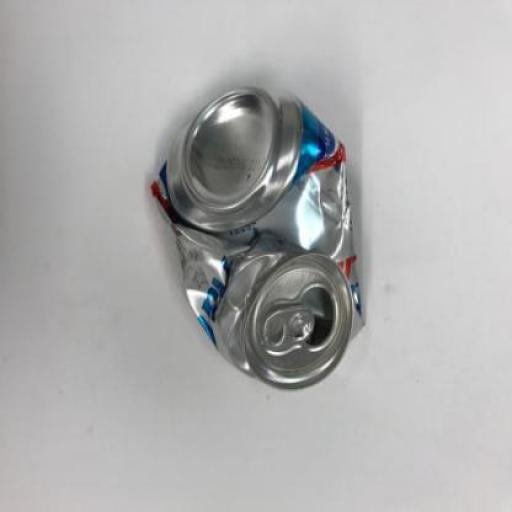metal: (152, 88, 366, 393)
